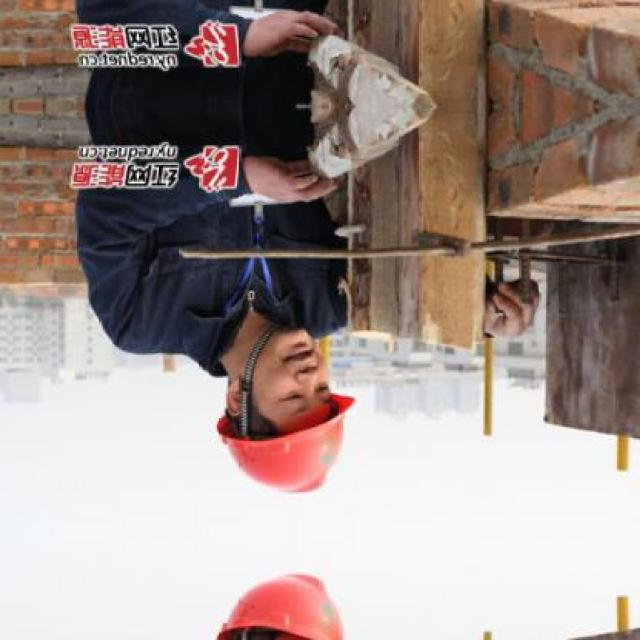safetyhelmet: (217, 372, 355, 495)
